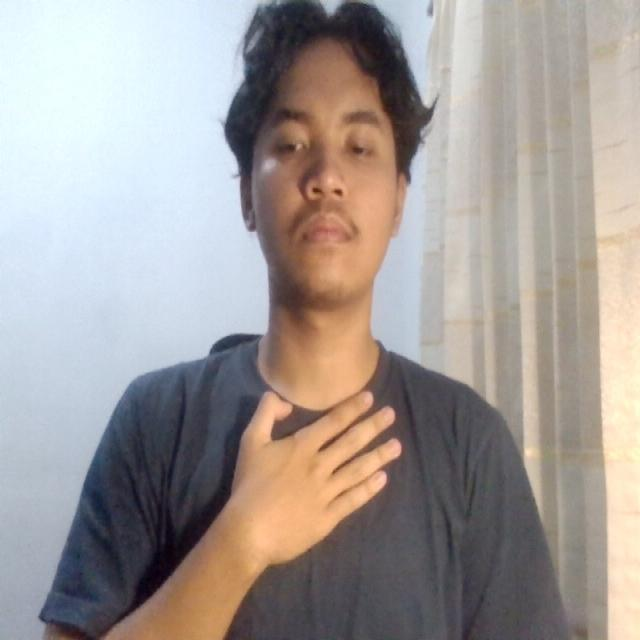Nama: (217, 360, 421, 576)
